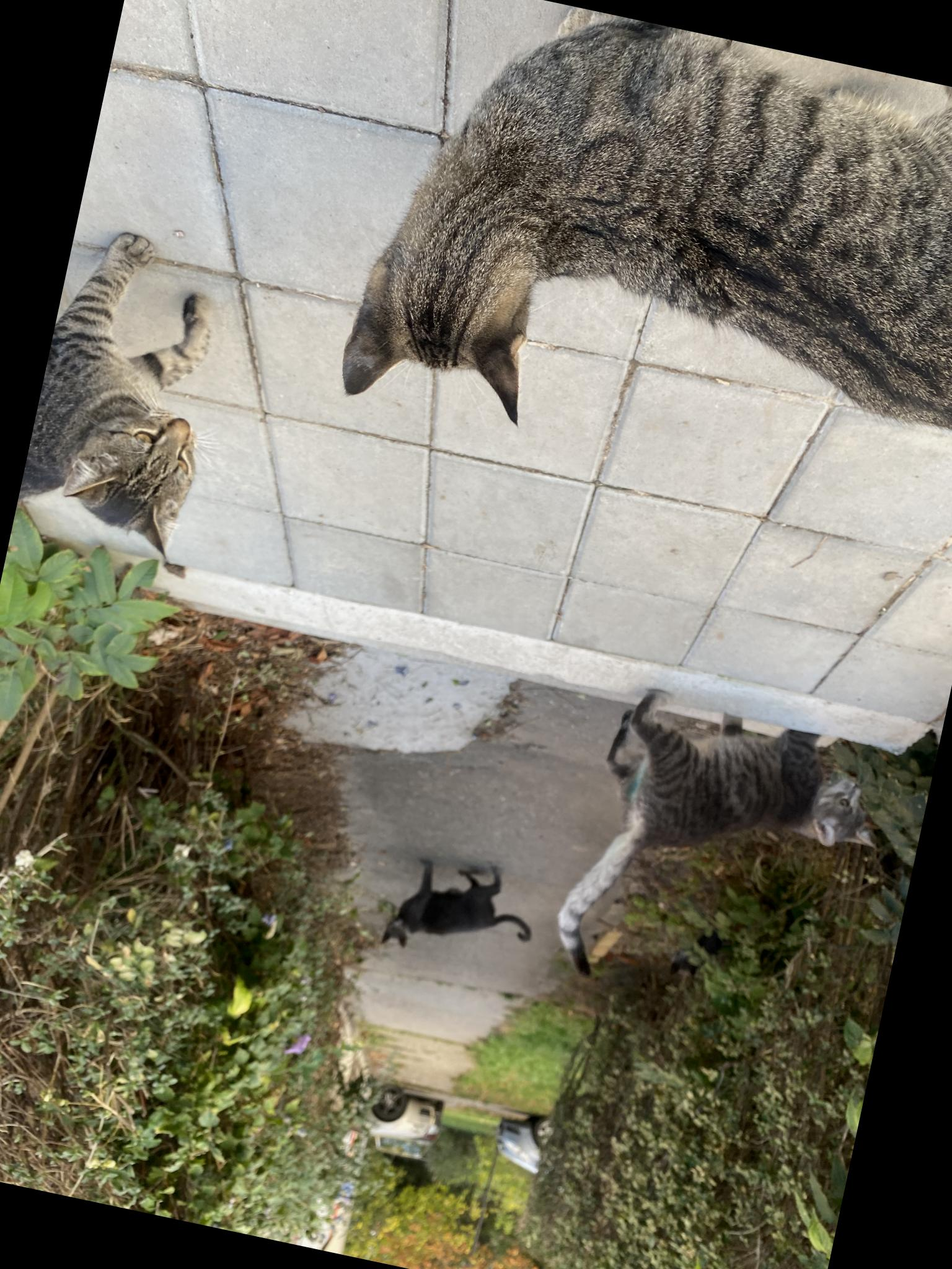macka: (333, 0, 952, 531), (545, 679, 900, 1033), (12, 223, 242, 562), (380, 847, 544, 976)
